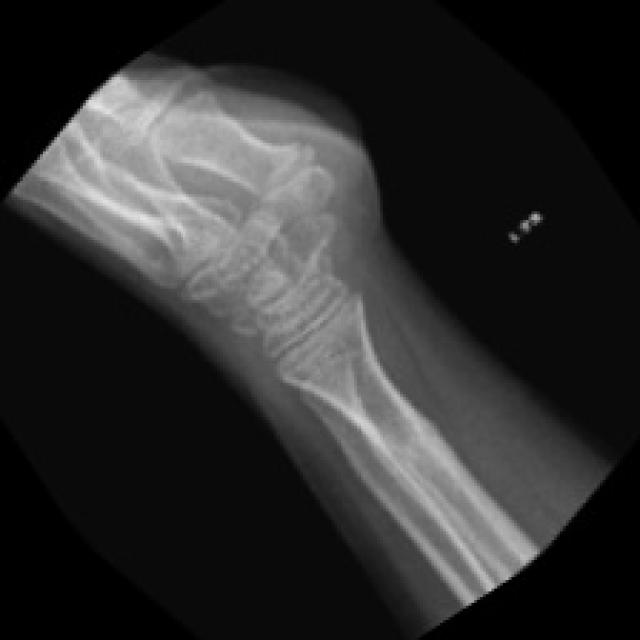fracture: (371, 411, 459, 513)
